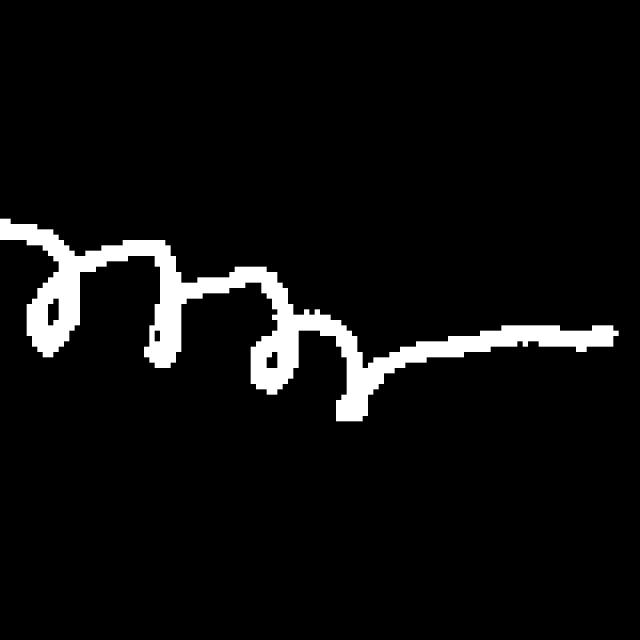inductor: (1, 176, 420, 466)
